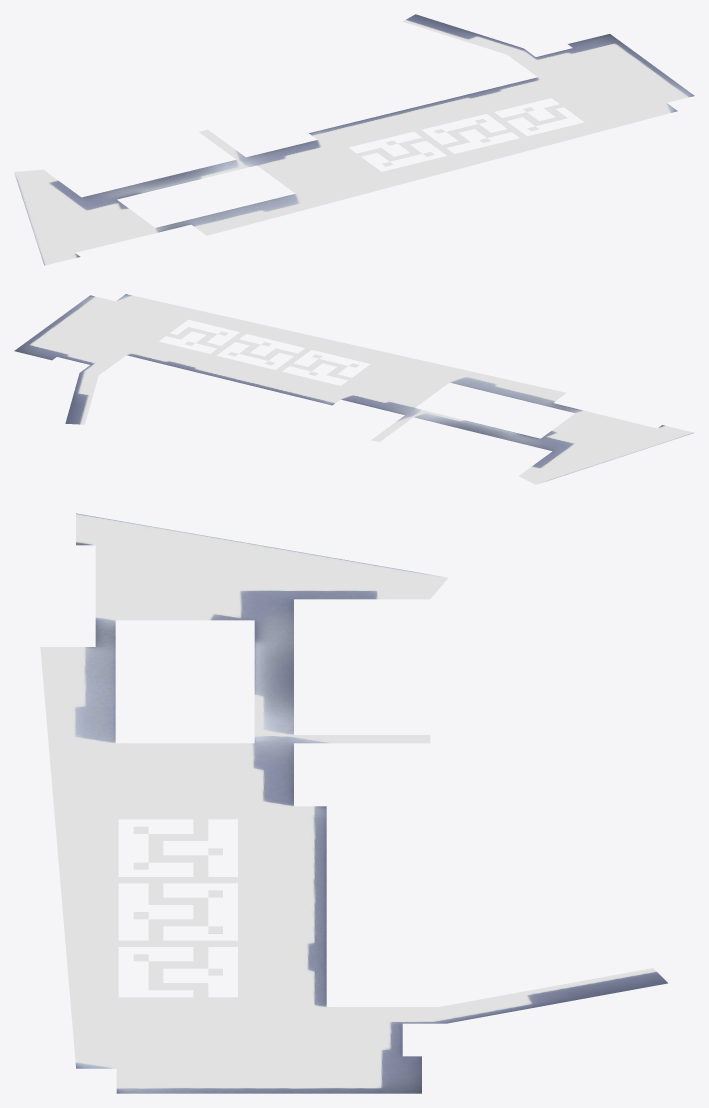
File: Asfalto cucinato.glb
The picture shows the model from 3 angles, top to bottom: view 1: azimuth 30°, elevation 25°; view 2: azimuth 150°, elevation 25°; view 3: azimuth 270°, elevation 25°; orthographic projection. The views are drawn at different scales.
Parts seen in each view (by area): view 1: Obj_000001_1; view 2: Obj_000001_1; view 3: Obj_000001_1.
Boxes of the visible parts, box(x1,y1,x2,y2) form: Obj_000001_1: box(14, 14, 694, 265); Obj_000001_1: box(14, 294, 694, 484); Obj_000001_1: box(40, 513, 667, 1093).
Size of the model in its own units: 230 by 1.77e-05 by 105.
1 material, 1 textured.
